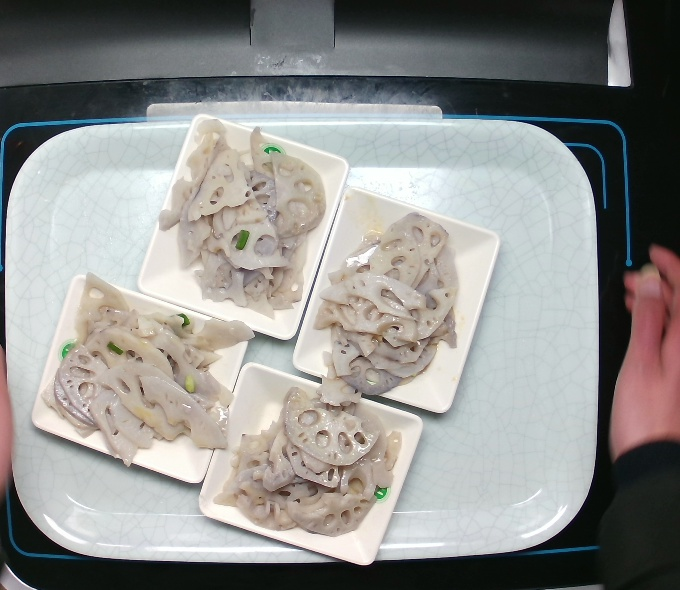wcq-OuPian: (35, 274, 258, 470), (148, 114, 330, 319), (309, 206, 477, 402), (219, 385, 410, 540)
